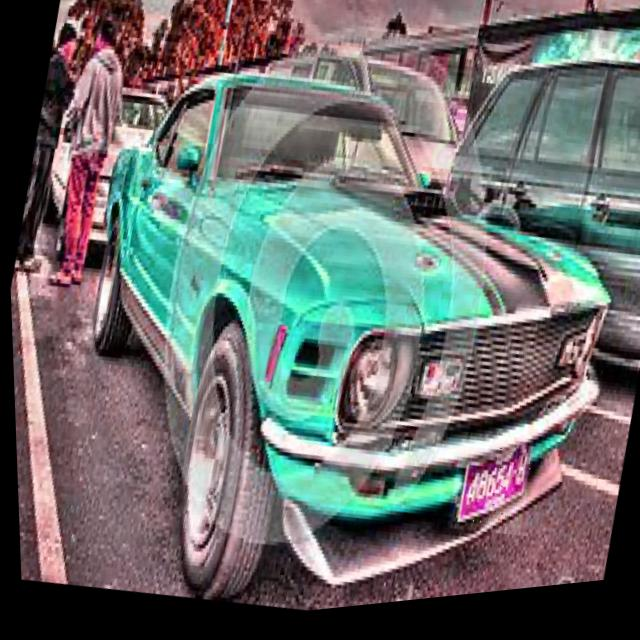license_plate: (439, 442, 533, 552)
